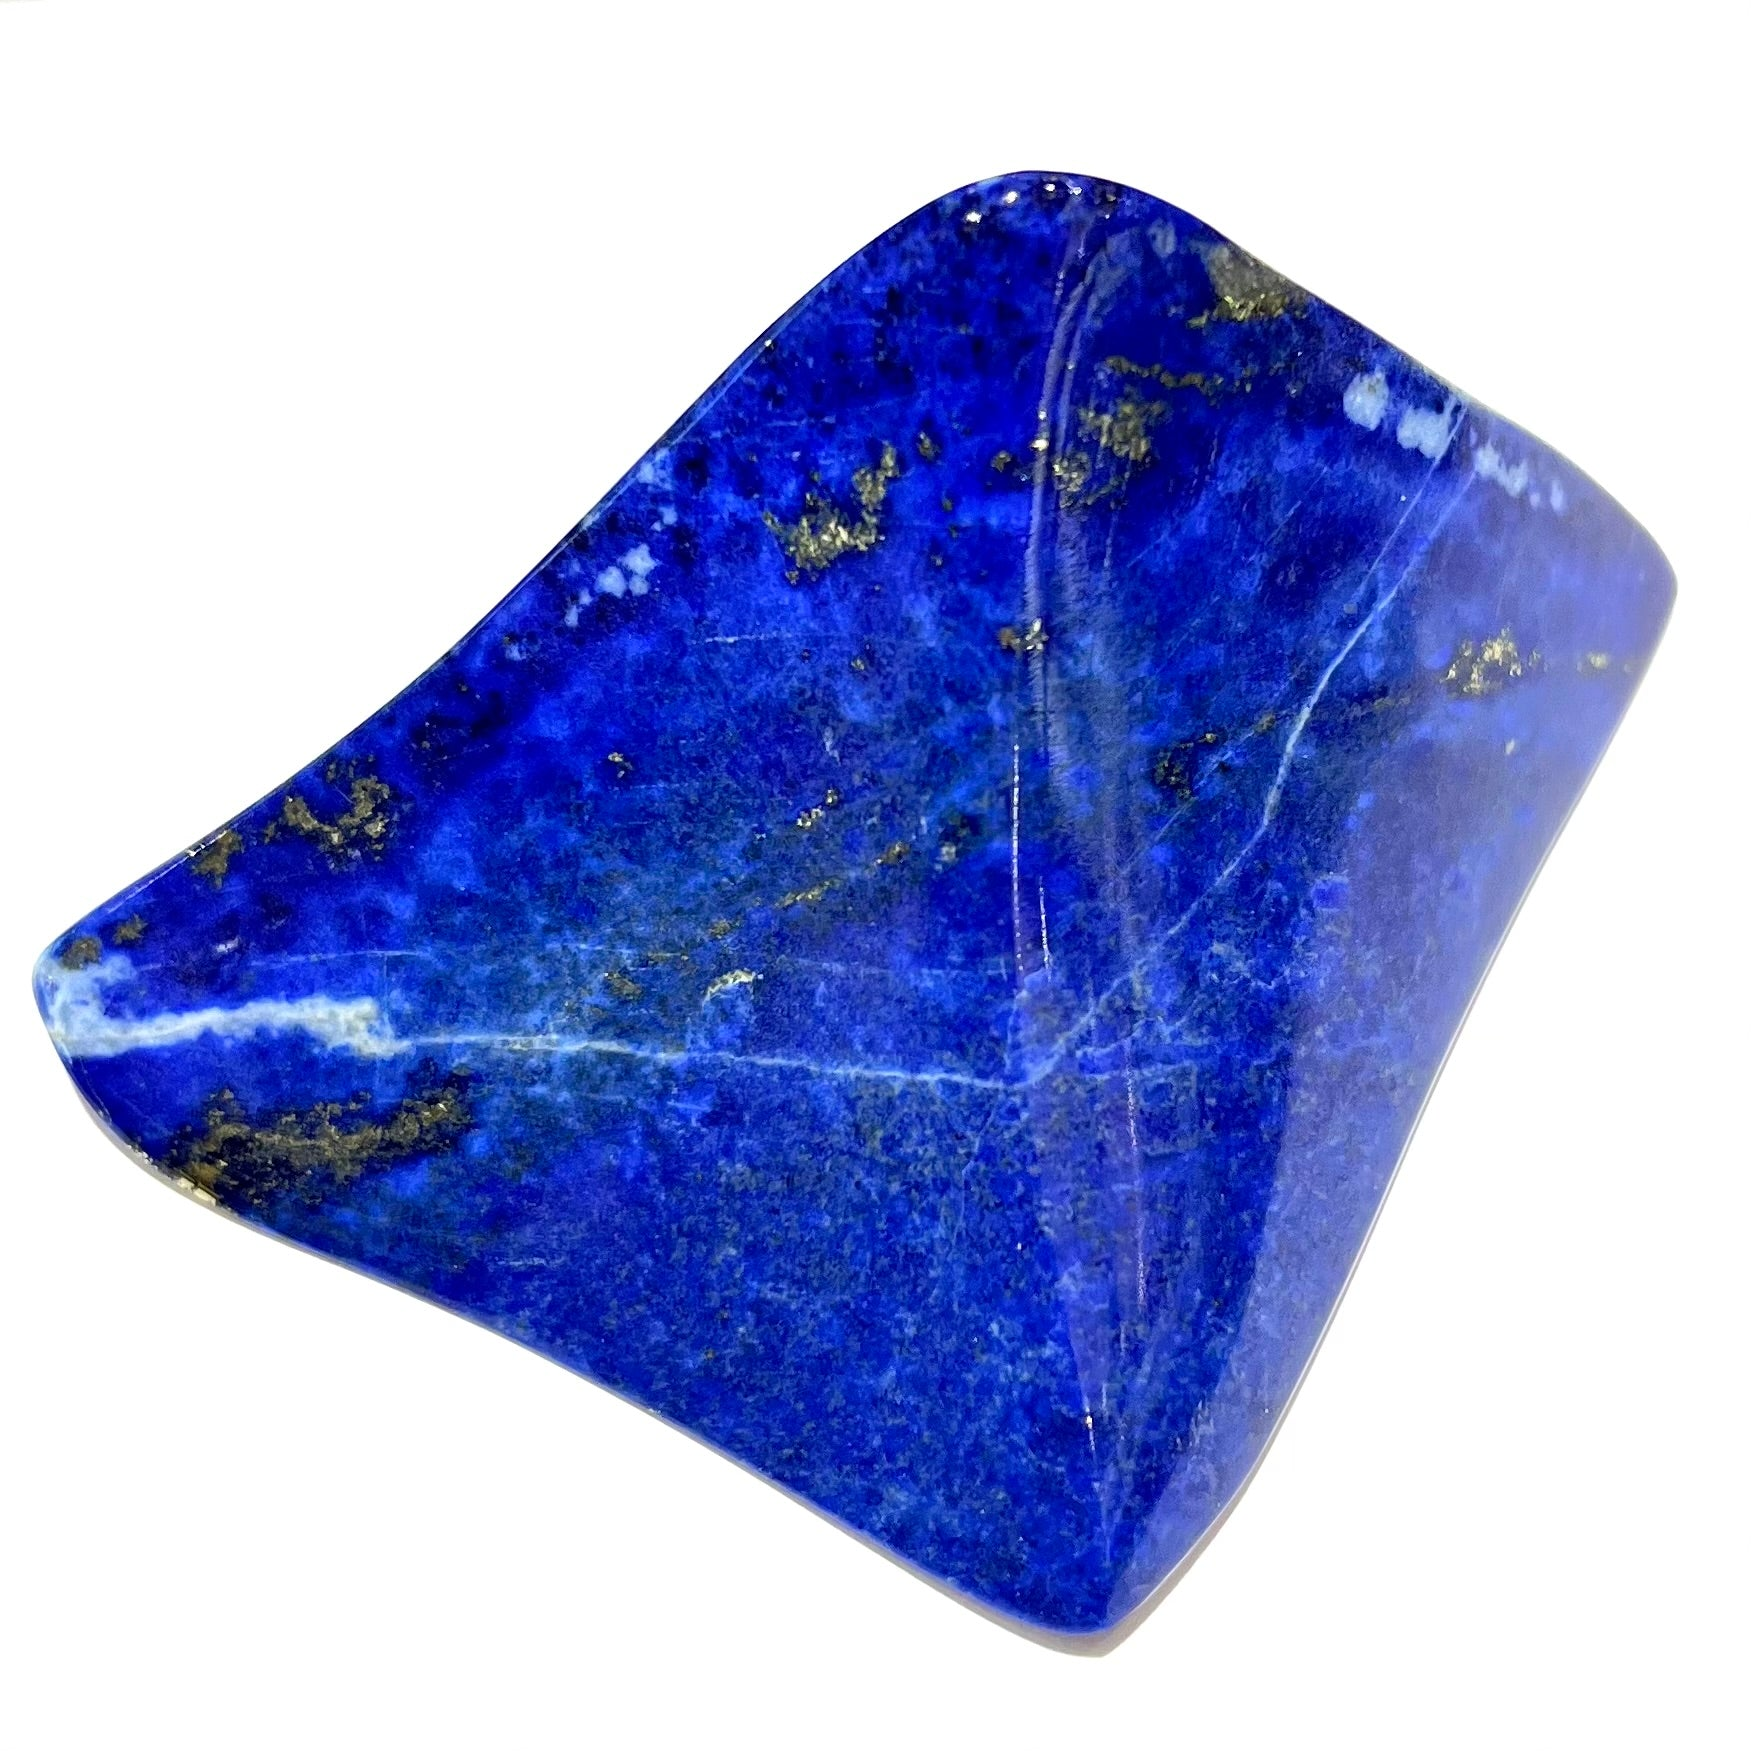Lapis_Lazuli: (27, 164, 1684, 1669)
